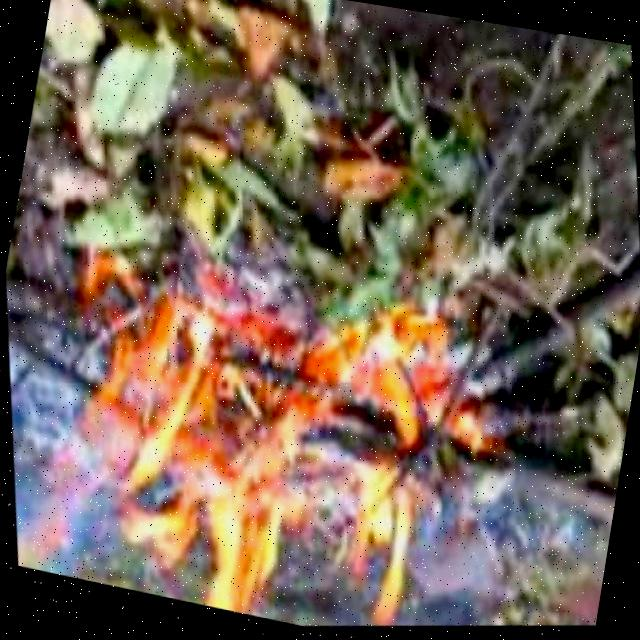fire: (38, 249, 525, 640)
